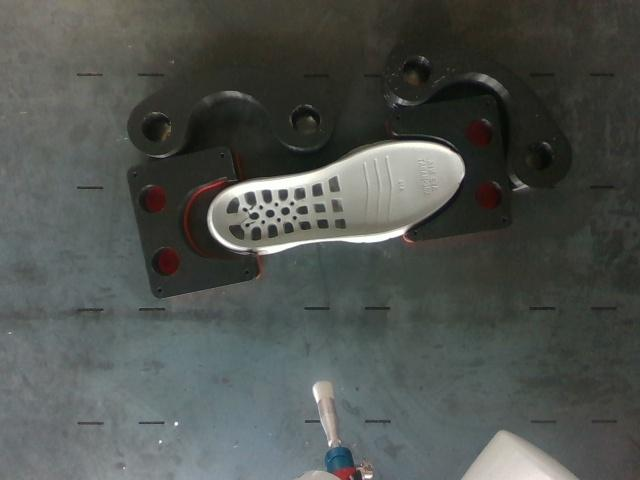shoes: (210, 141, 463, 248)
